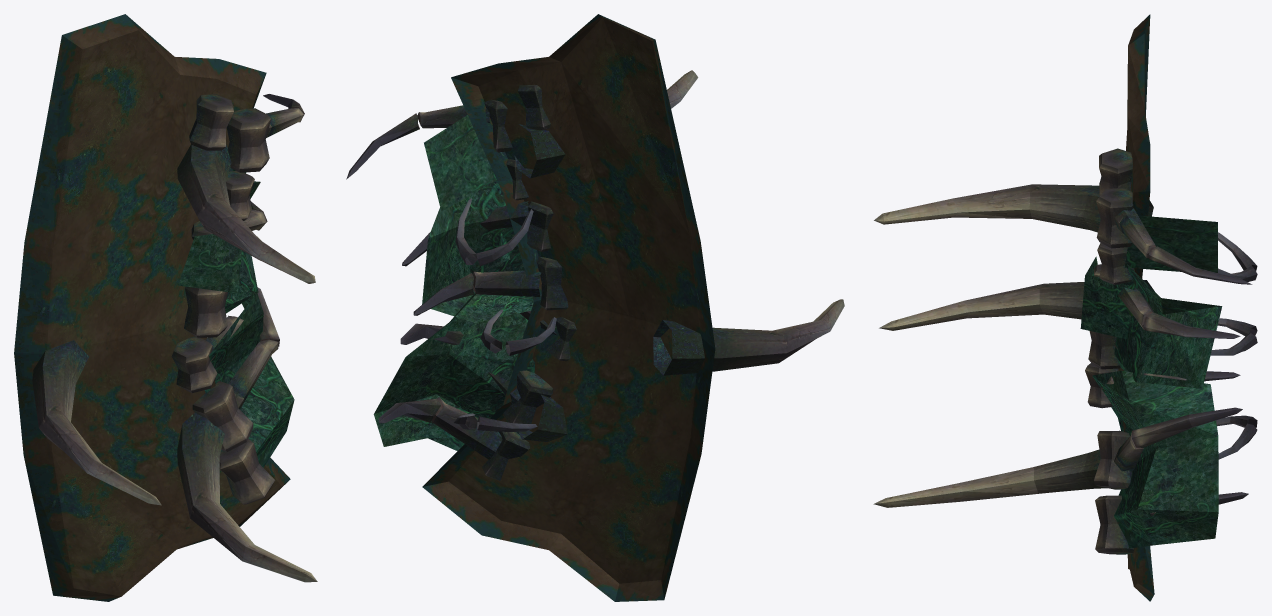
Rendered from mori_fuben_02_lg01.obj.
3 renders of one model, left to right at view 1: azimuth 30°, elevation 25°; view 2: azimuth 150°, elevation 25°; view 3: azimuth 270°, elevation 25°, orthographic. The views are drawn at different scales.
Visible parts, largest first — view 1: mori_fuben_02_lg01; view 2: mori_fuben_02_lg01; view 3: mori_fuben_02_lg01.
Boxes of the visible parts, x1,y1,x2,y2 form: mori_fuben_02_lg01: (14, 14, 317, 601); mori_fuben_02_lg01: (346, 14, 844, 601); mori_fuben_02_lg01: (873, 14, 1257, 601).
Bounding box in the file's own units: 553 × 914 × 578.
Materials: 2 (2 with a texture image).
